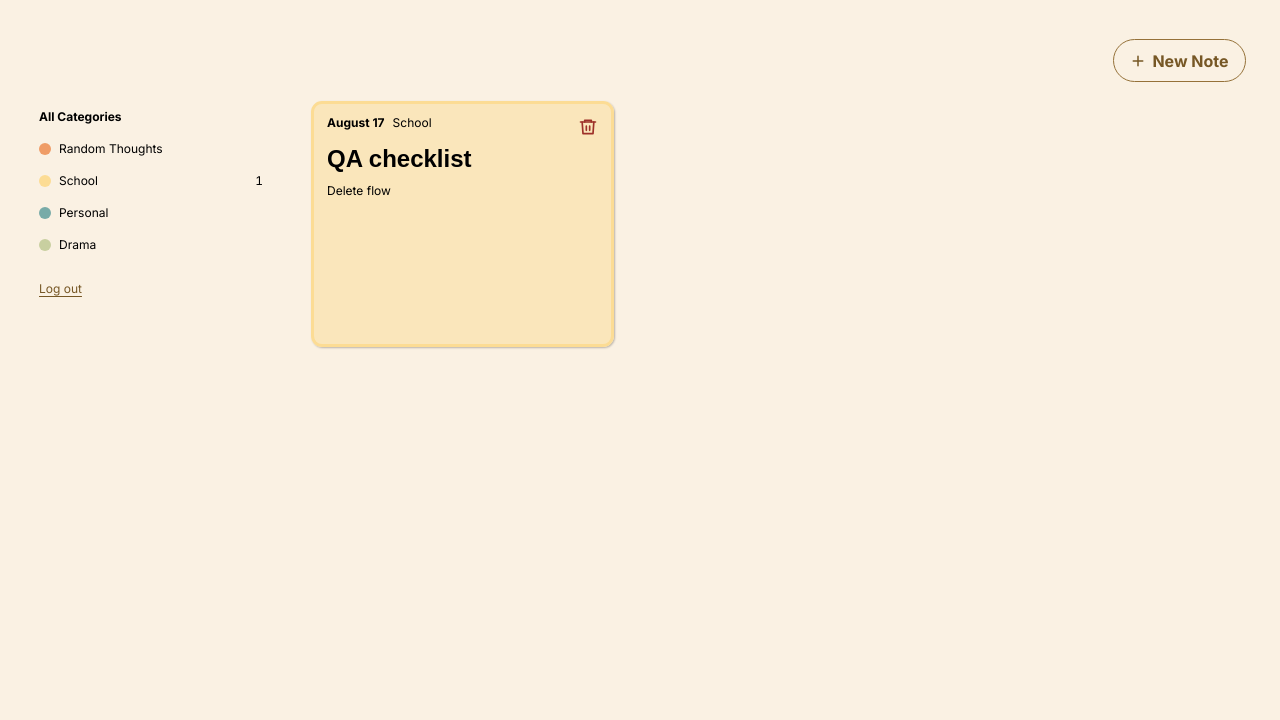
notes delete flow › treats a missing server note as successful local cleanup
Click the button named "Delete QA checklist". click: (588, 127)
box: [566,105,610,149]
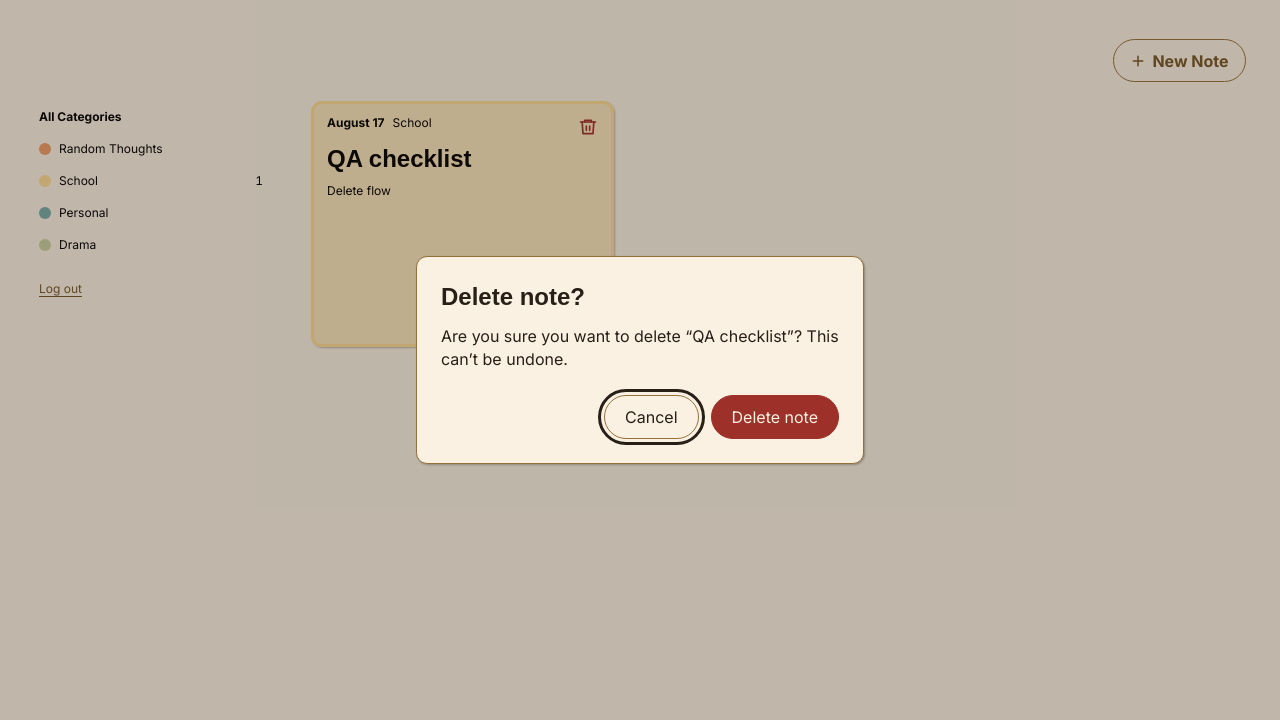
Click the button "Delete note". click: (775, 417)
box: [711,395,839,439]
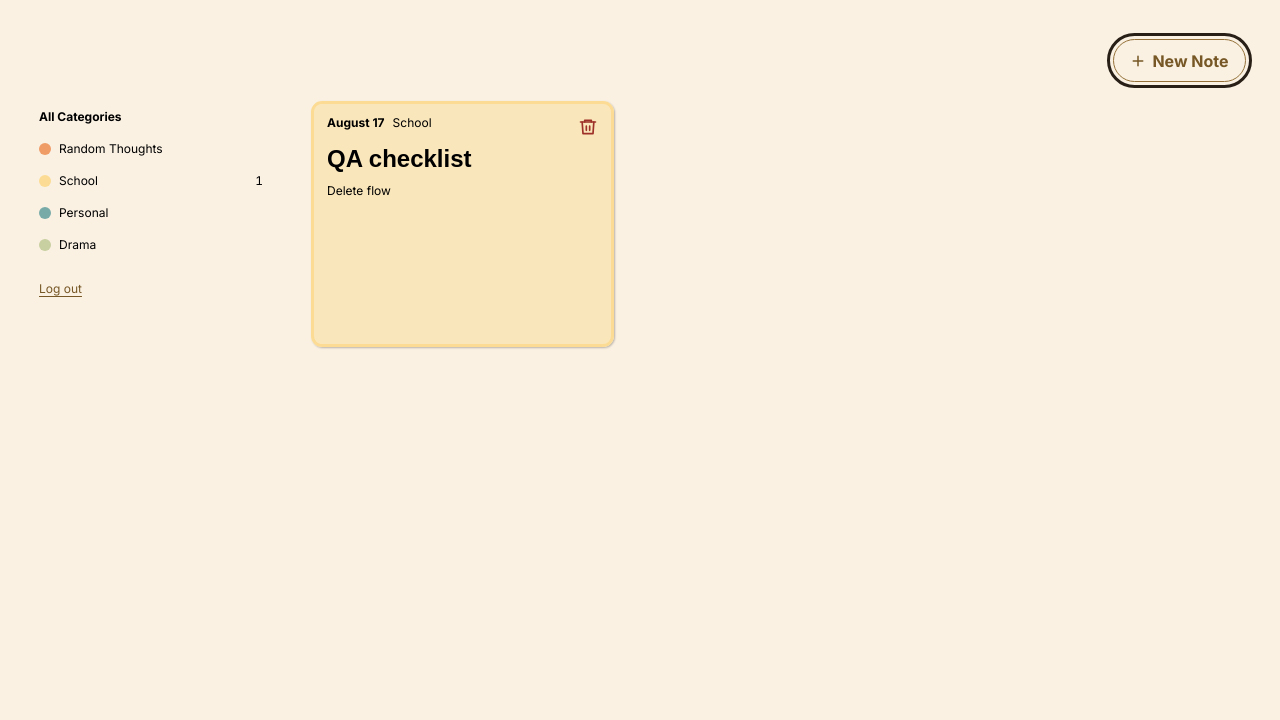
Expected: the dialog is gone
